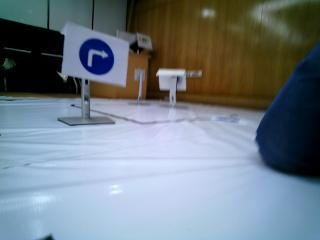right: (67, 29, 124, 80)
